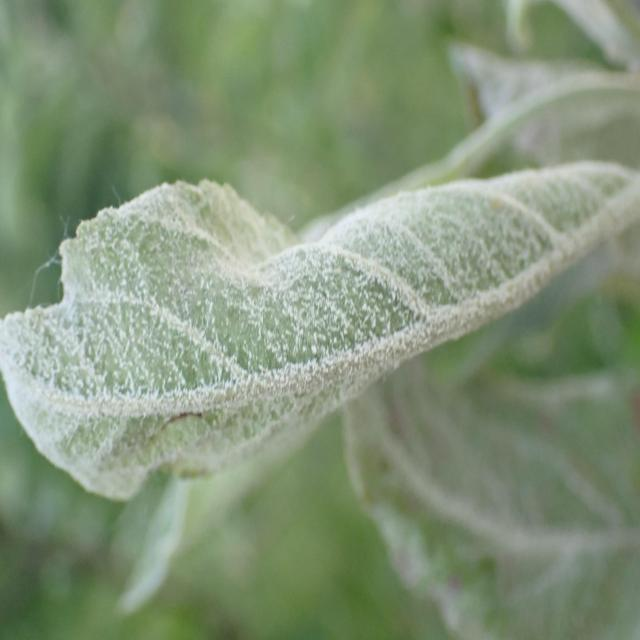Powdery_mildew: (0, 162, 640, 498), (337, 340, 639, 640)
